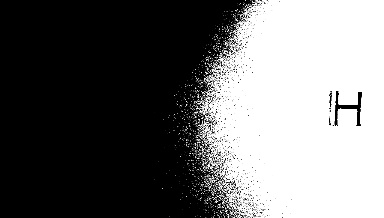H: (329, 88, 364, 127)
